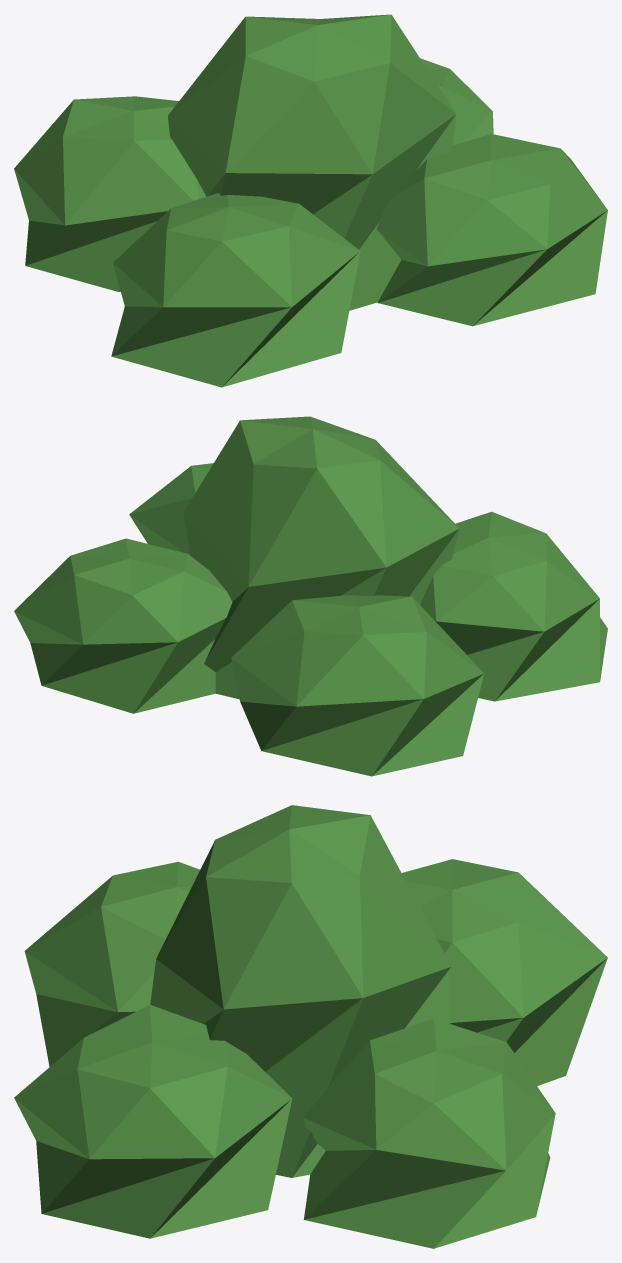
The model's file is item_rm_jade_c.obj.
3 views of the same model, one above another, from view 1: azimuth 30°, elevation 25°; view 2: azimuth 150°, elevation 25°; view 3: azimuth 270°, elevation 25° (orthographic). The views are drawn at different scales.
Bounding box in the file's own units: 0.8695 × 0.4026 × 0.7667.
